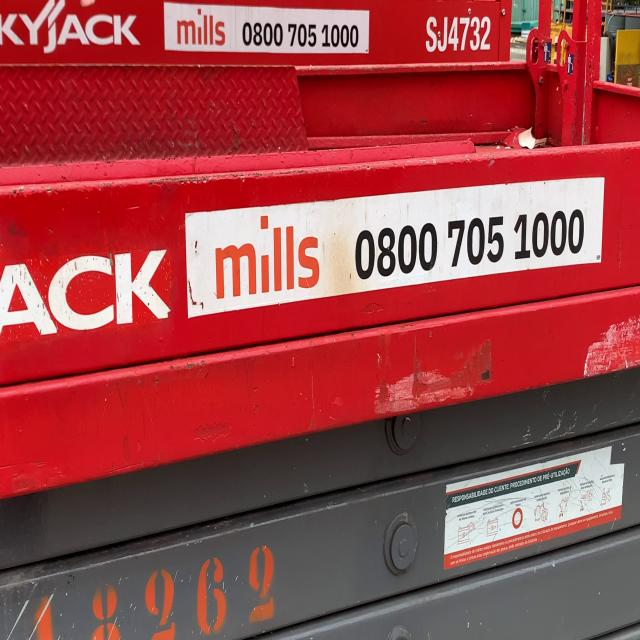Adesivo Longo: (185, 171, 609, 322), (163, 1, 370, 54)
